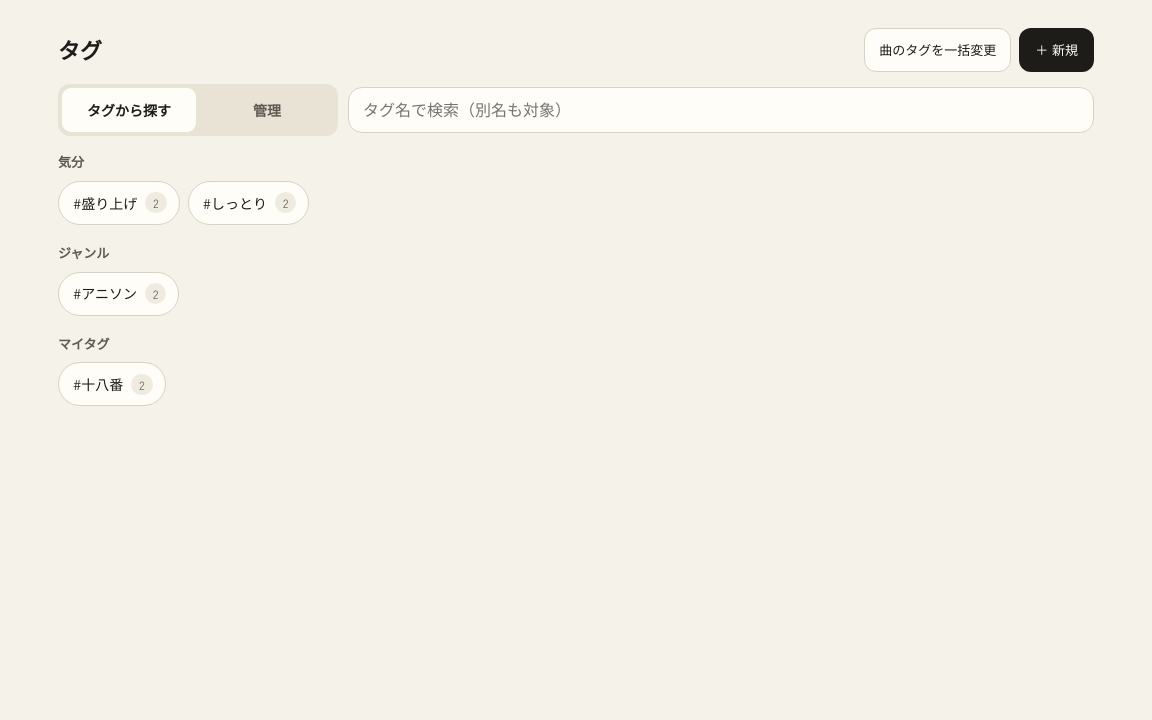
TagsScreen: 新規作成 › マイタグにタグを作る。失敗はメッセージ
Click the button "＋ 新規". click: click(1057, 50)
box: [1019,28,1094,72]
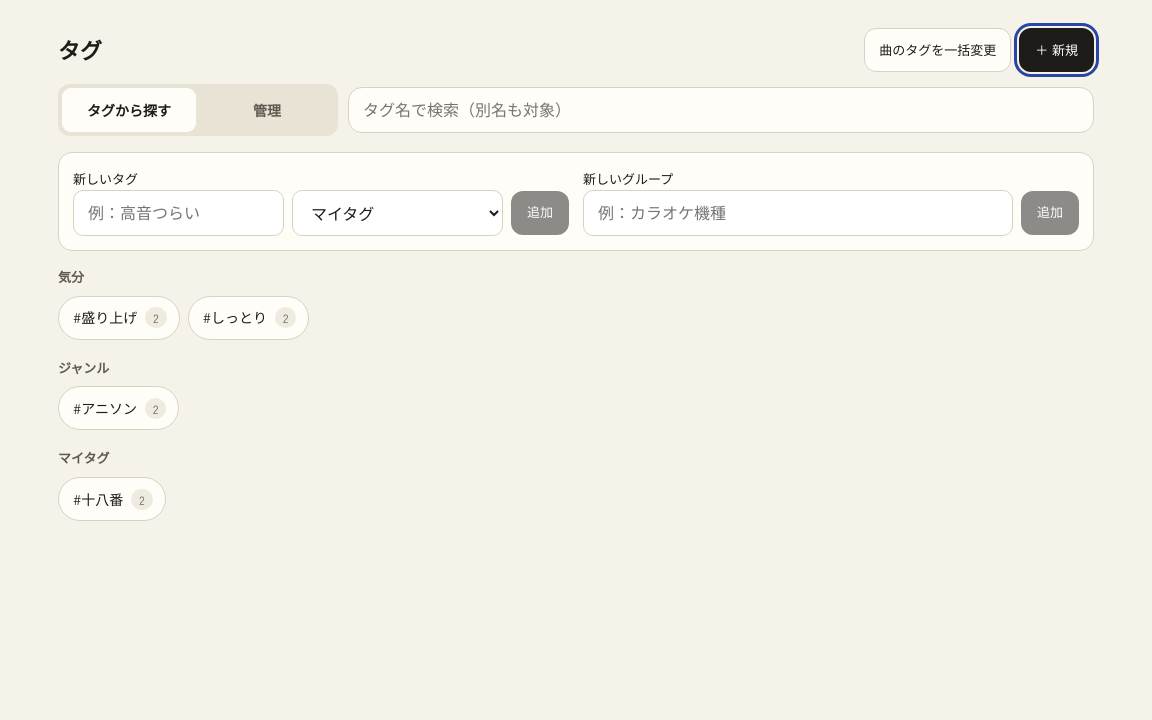
Type "十八番" into the field labelled "新しいタグ". click: (178, 213)
box: [73,190,284,236]
Then press Enter
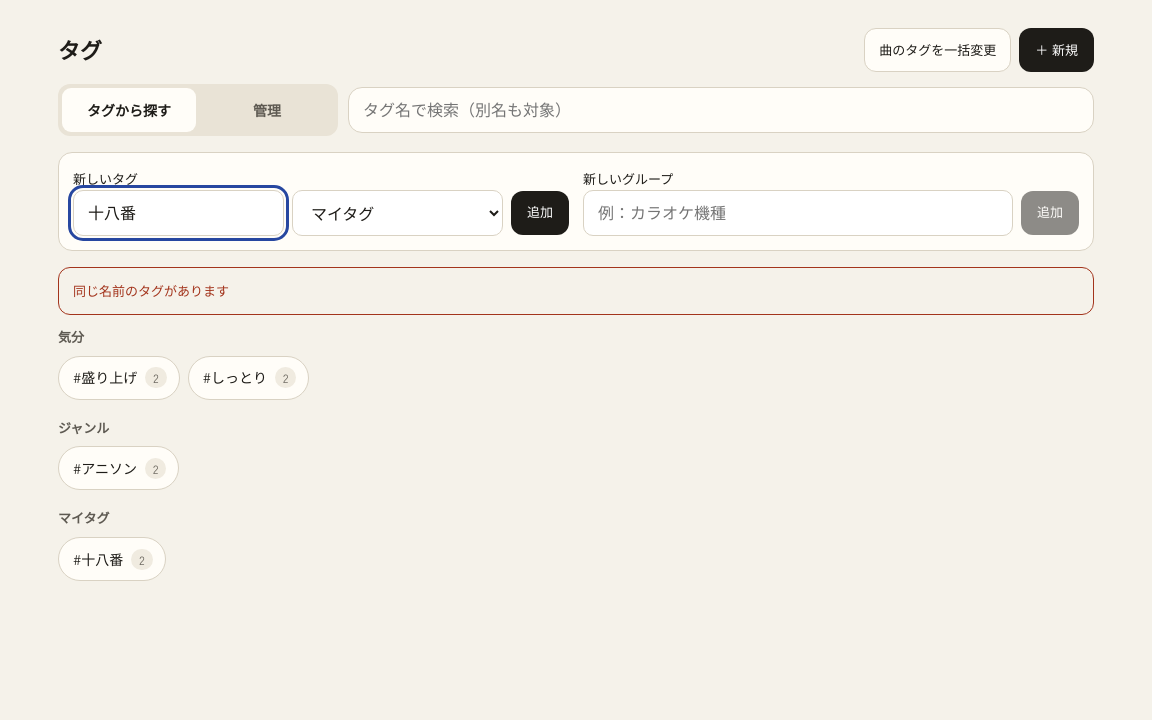
Expected: the message reads "同じ名前のタグがあります", [73,281,229,300]
